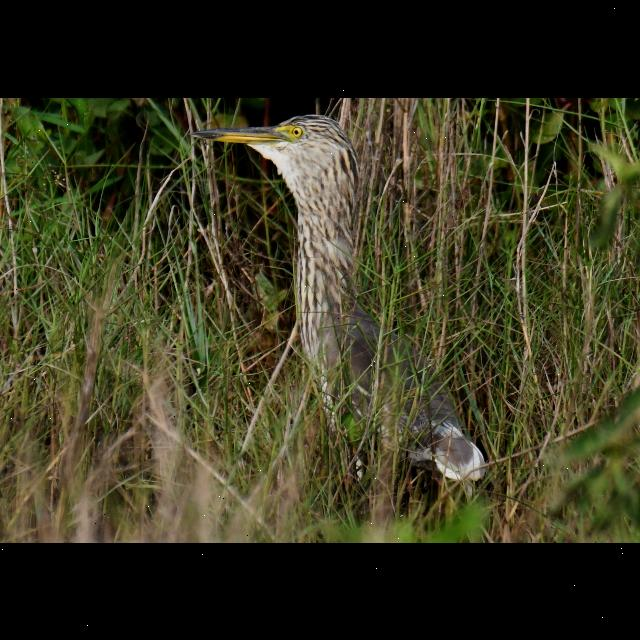heron: (188, 107, 492, 491)
